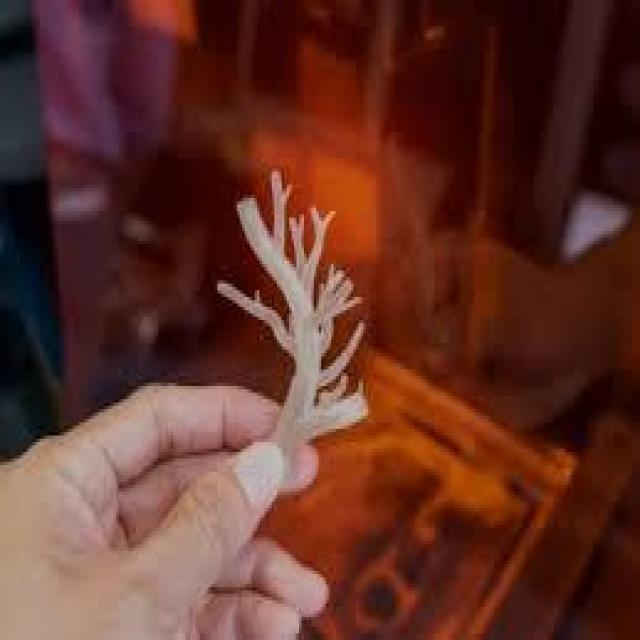Without deffect: (198, 155, 398, 463)
